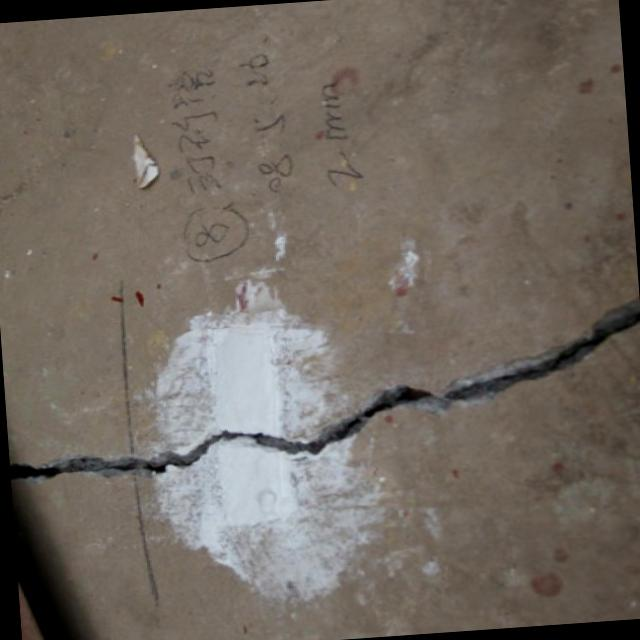crack: (2, 298, 640, 487)
